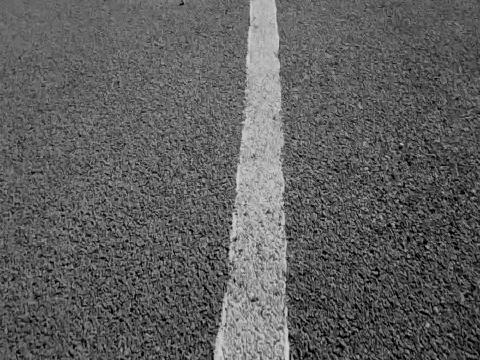Lines: (213, 0, 290, 360)
